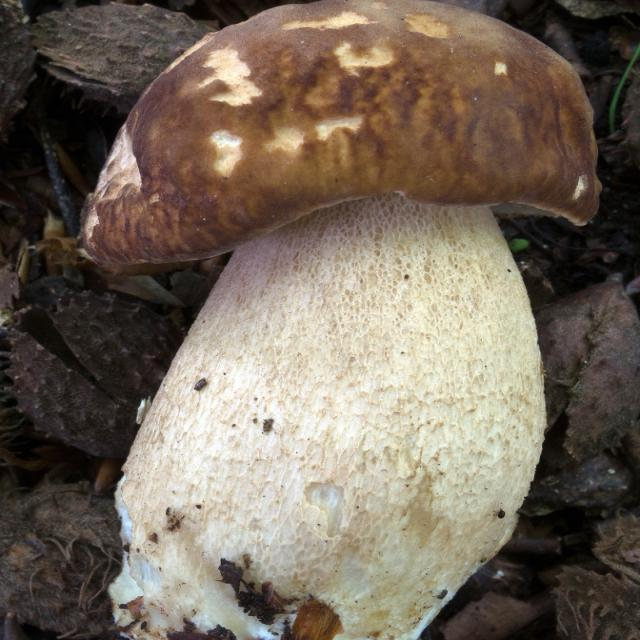Boletus: (82, 1, 599, 640)
